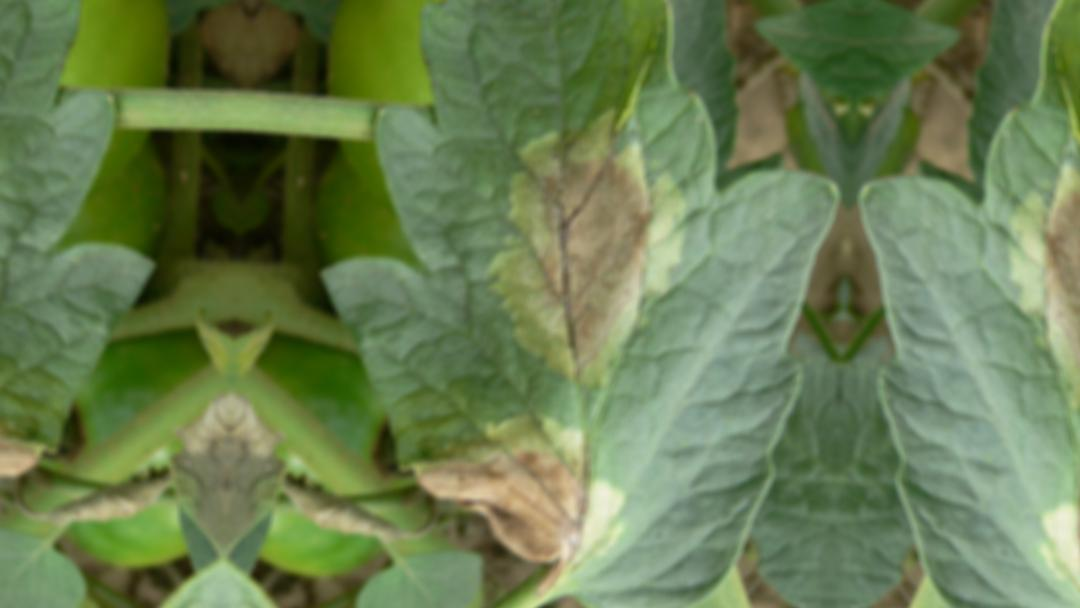Tomato leaf late blight: (284, 0, 857, 608)
